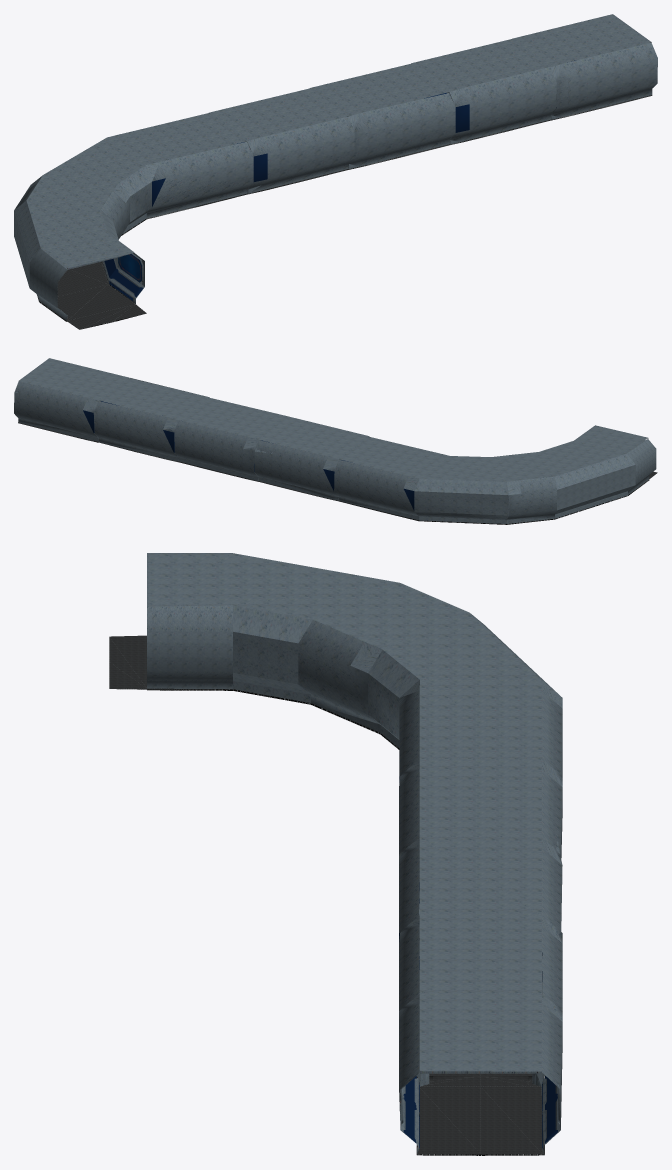
File: pasillo_4.obj
The picture shows the model from 3 angles, top to bottom: view 1: azimuth 30°, elevation 25°; view 2: azimuth 150°, elevation 25°; view 3: azimuth 270°, elevation 25°; orthographic projection. The views are drawn at different scales.
Visible parts, largest first — view 1: pasillo_hall_cantina:polySurface, pasillo_hall_cantina:paredes, pasillo_hall_cantina:azules; view 2: pasillo_hall_cantina:paredes, pasillo_hall_cantina:polySurface; view 3: pasillo_hall_cantina:polySurface, pasillo_hall_cantina:paredes, pasillo_hall_cantina:azules.
Part boxes in pixels (left/top/right/bottom): pasillo_hall_cantina:polySurface: left=26, top=14, right=652, bottom=329; pasillo_hall_cantina:paredes: left=14, top=42, right=657, bottom=320; pasillo_hall_cantina:azules: left=104, top=93, right=446, bottom=300; pasillo_hall_cantina:paredes: left=14, top=378, right=656, bottom=523; pasillo_hall_cantina:polySurface: left=18, top=358, right=657, bottom=524; pasillo_hall_cantina:polySurface: left=109, top=553, right=544, bottom=1155; pasillo_hall_cantina:paredes: left=147, top=605, right=562, bottom=1153; pasillo_hall_cantina:azules: left=403, top=1076, right=557, bottom=1148.
Size of the model in its own units: 224 by 16.86 by 81.69.
